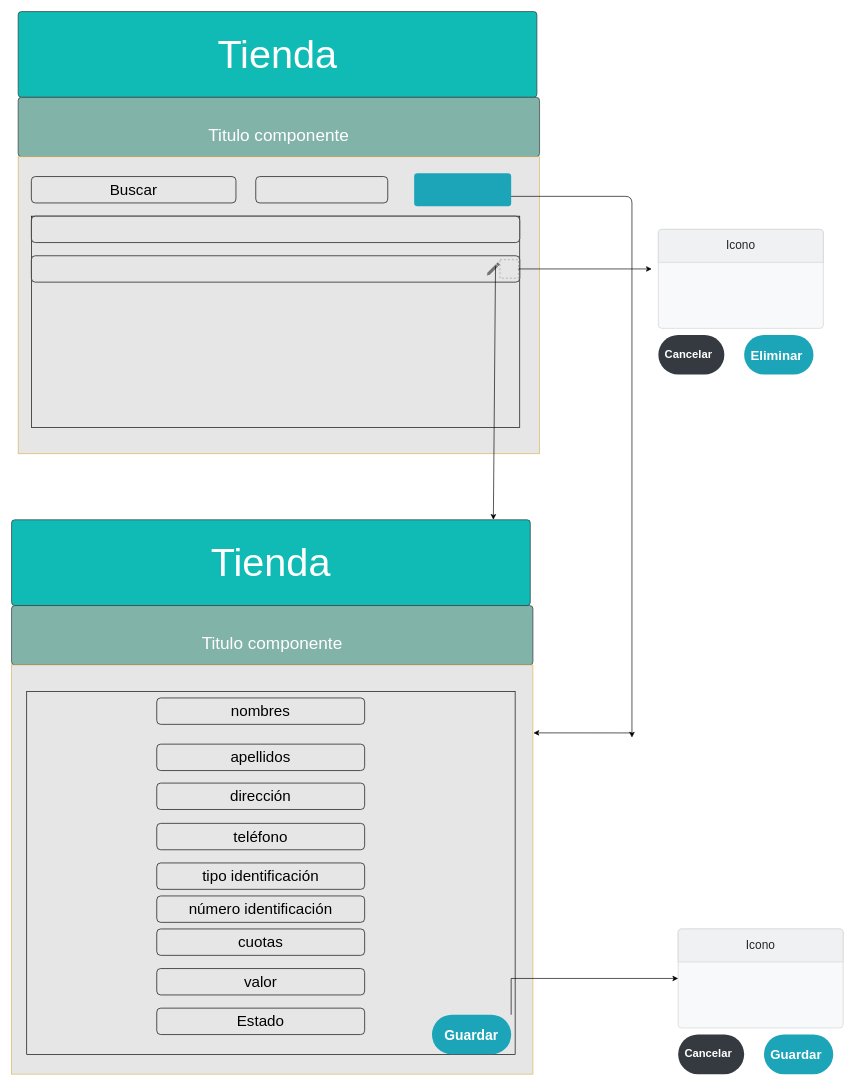
Some shapes in this 855 by 1086 pixel diagram are drawn without their labels. Grey dashed boxes stand in for pictures. Each missing label, with the box of its shape:
Filtrar: (255, 176, 388, 203)
juan aguilar cra 45 3166225 CC 10322251 14 258.000: (31, 255, 520, 282)
nombre apellido dirección teléfono tipo numero id cuotas valor accione: (31, 215, 520, 243)
Nuevo credito: (414, 173, 511, 206)
Verificación de eliminación: (658, 229, 823, 328)
Verificación de guardado: (677, 928, 843, 1028)
